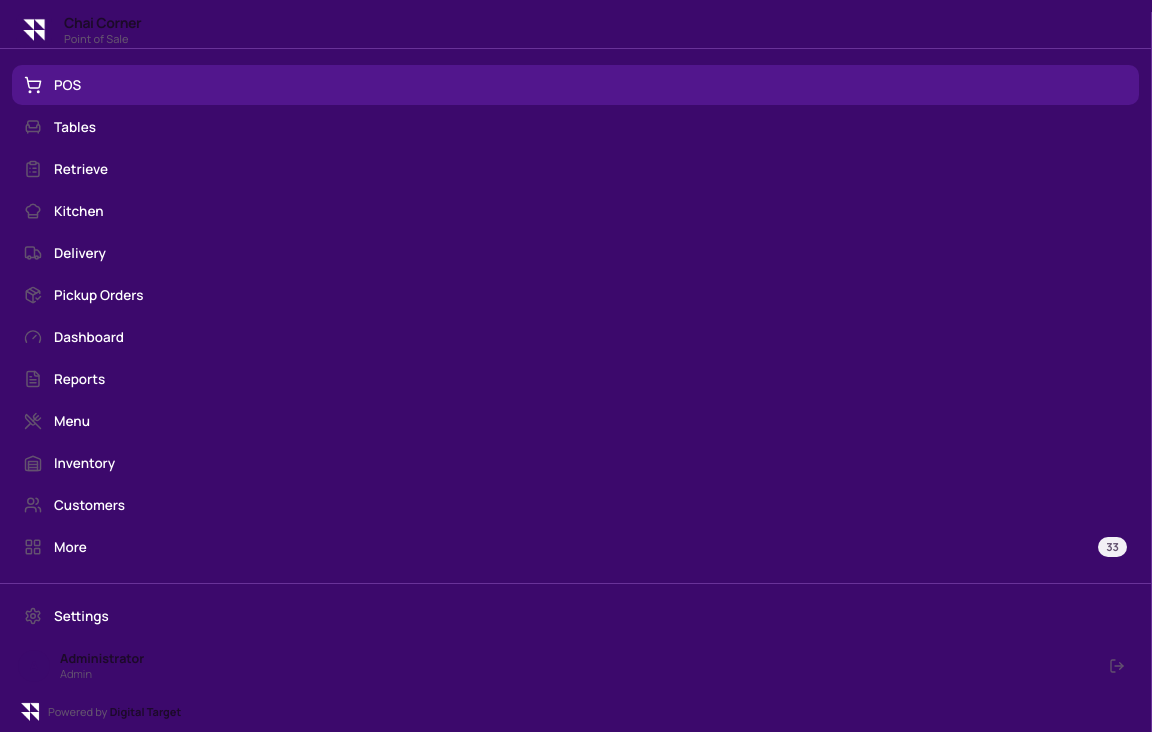
Test: the sidebar › marks the current page and navigates on click
The width and height of the screenshot is (1152, 732).
Click the button "Tables".
click(75, 127)  # box [12, 107, 1139, 147]
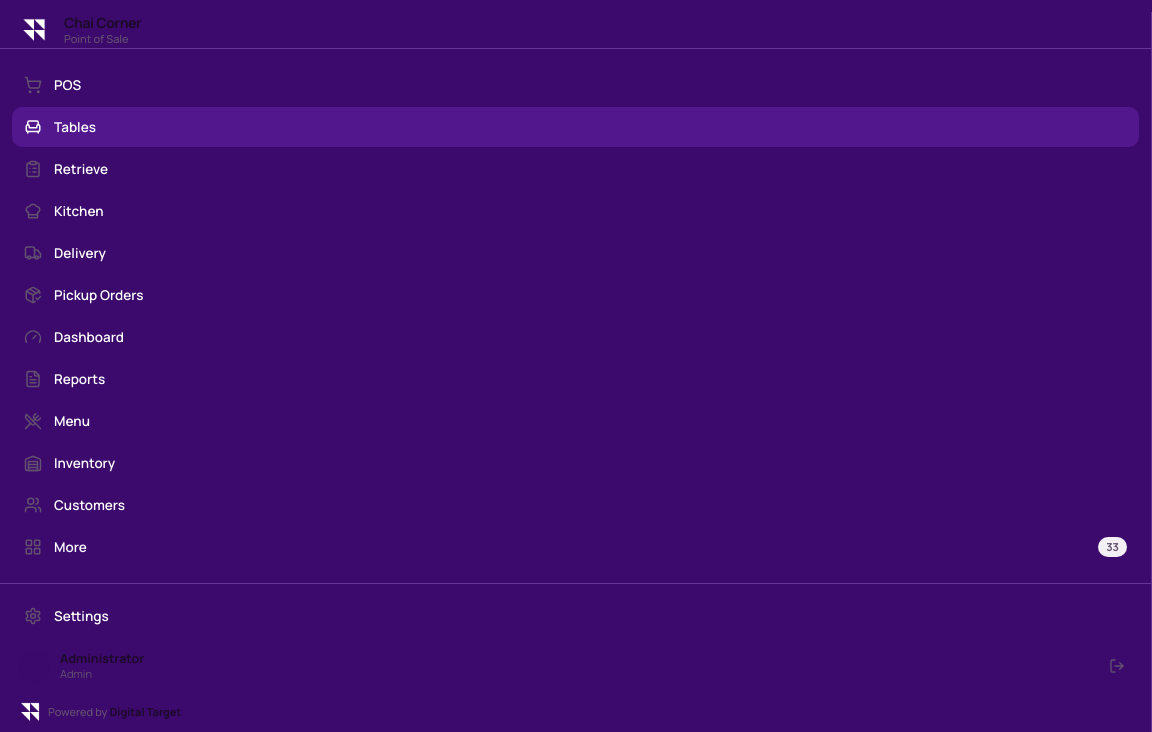
Result: the button "Tables" is marked as current at [12, 107, 1139, 147]
